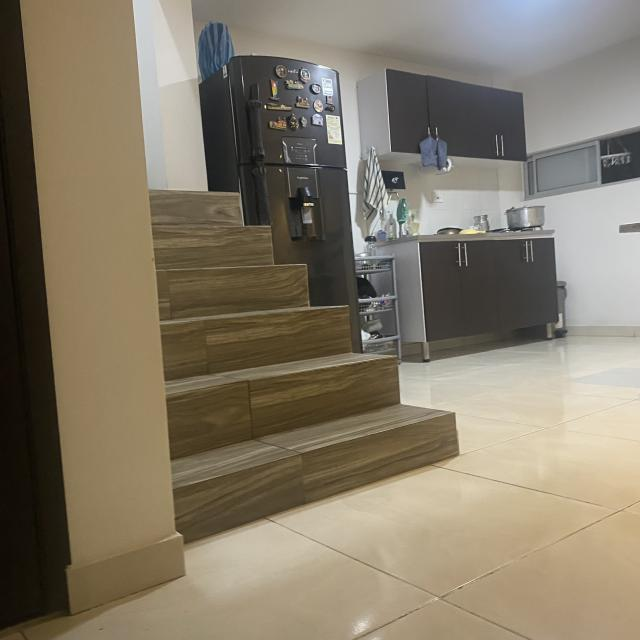obstacle: (392, 205, 565, 364)
stair: (118, 169, 448, 547)
